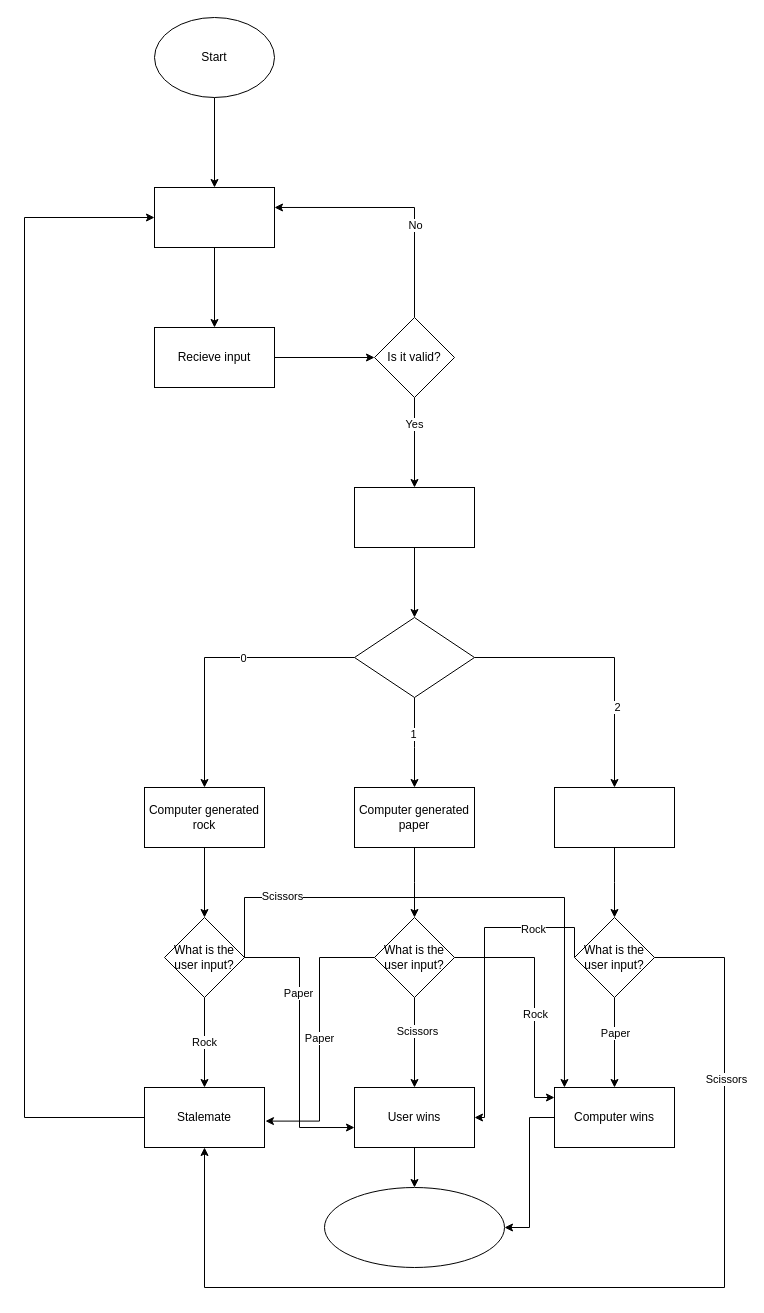
Some shapes in this 764 by 1313 pixel diagram are drawn without their labels. The centre of each missing label's shape, as x and y in pixels:
"Ask user for input" goes at point 214,217.
"Computer generated scissors" goes at point 614,817.
"End" goes at point 414,1227.
"Generate random number and / 3" goes at point 414,517.
"What is the remainder?" goes at point 414,657.
